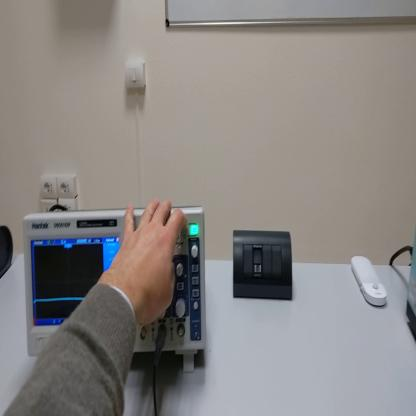hand: (109, 198, 184, 329)
oscilloscope: (22, 194, 207, 383)
socket: (2, 226, 15, 278)
welder station: (406, 219, 416, 338)
